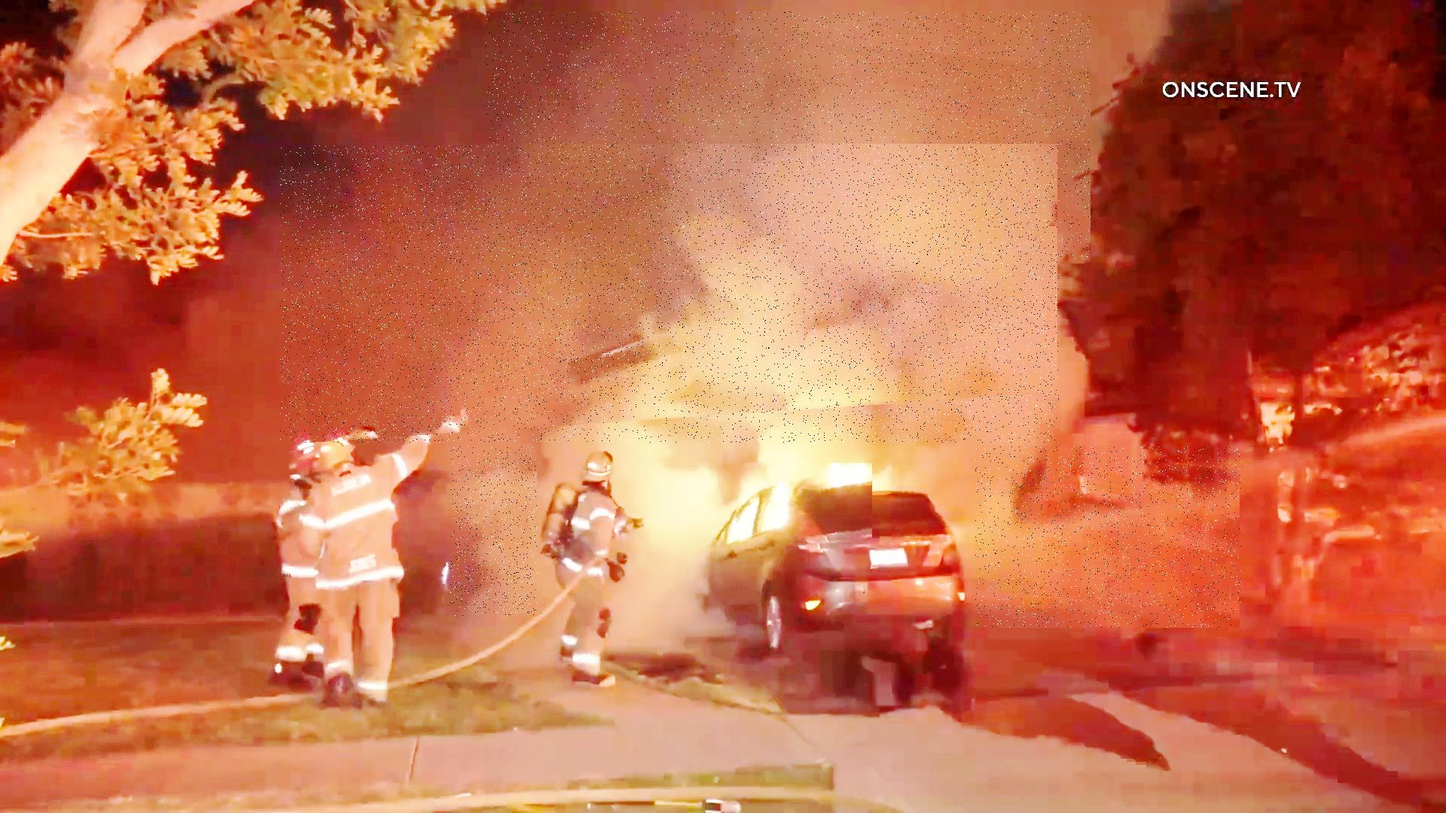fire: (733, 463, 874, 550)
smoke: (281, 145, 1060, 443), (486, 12, 1091, 265), (976, 447, 1242, 628), (450, 447, 537, 616)
